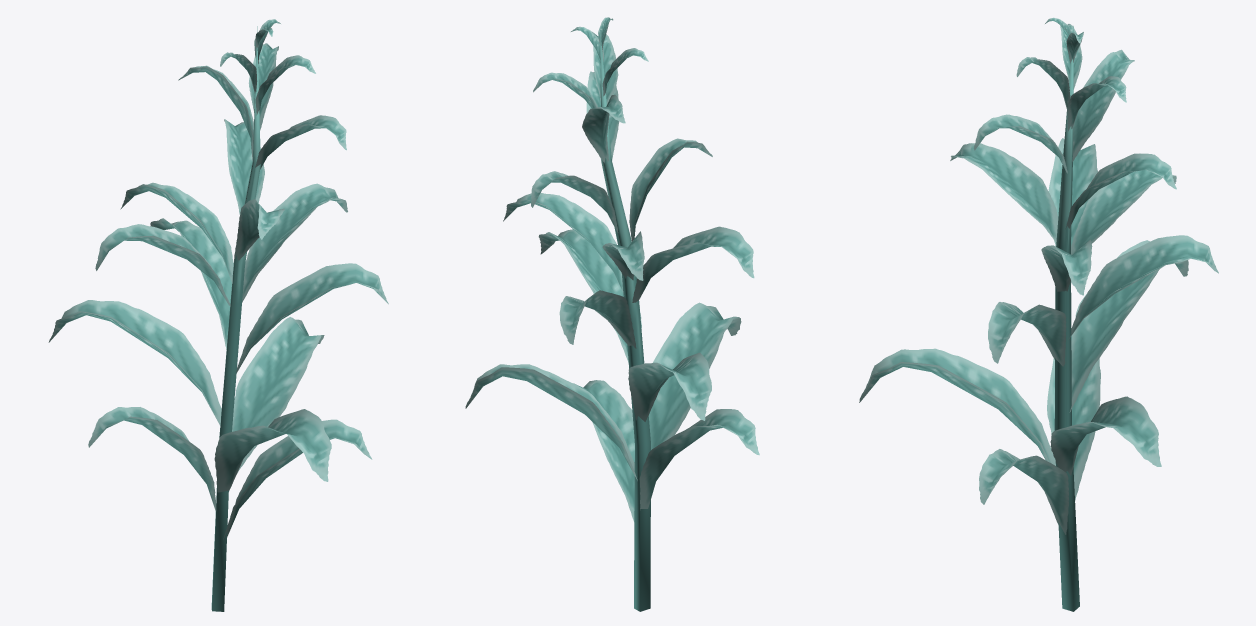
The model's file is SM_ENV_plant_ancient_02_01.fbx.
3 views of the same model, side by side, from view 1: azimuth 30°, elevation 25°; view 2: azimuth 150°, elevation 25°; view 3: azimuth 270°, elevation 25° (orthographic). The views are drawn at different scales.
Parts seen in each view (by area): view 1: SM_ENV_plant_ancient_02_01_LOD0; view 2: SM_ENV_plant_ancient_02_01_LOD0; view 3: SM_ENV_plant_ancient_02_01_LOD0.
Boxes of the visible parts, <box> form: SM_ENV_plant_ancient_02_01_LOD0: <box>48,19,388,611</box>; SM_ENV_plant_ancient_02_01_LOD0: <box>465,17,759,611</box>; SM_ENV_plant_ancient_02_01_LOD0: <box>859,17,1218,611</box>.
Bounding box in the file's own units: 39.53 × 67.96 × 41.56.
